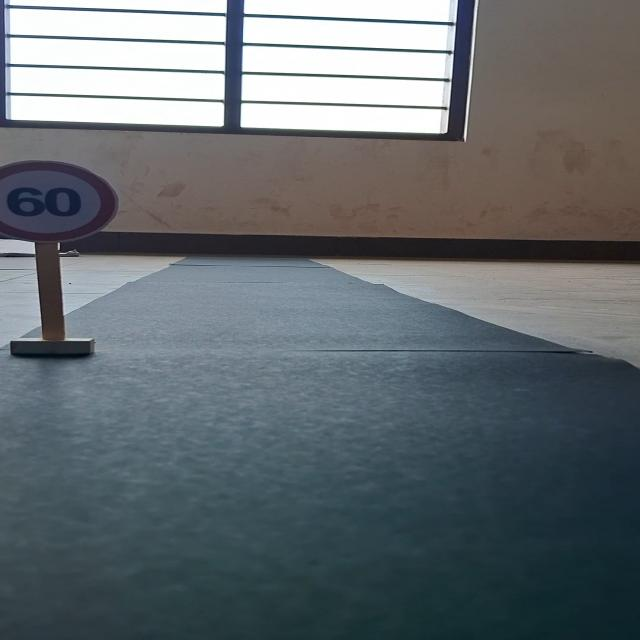Speed60: (0, 160, 121, 245)
